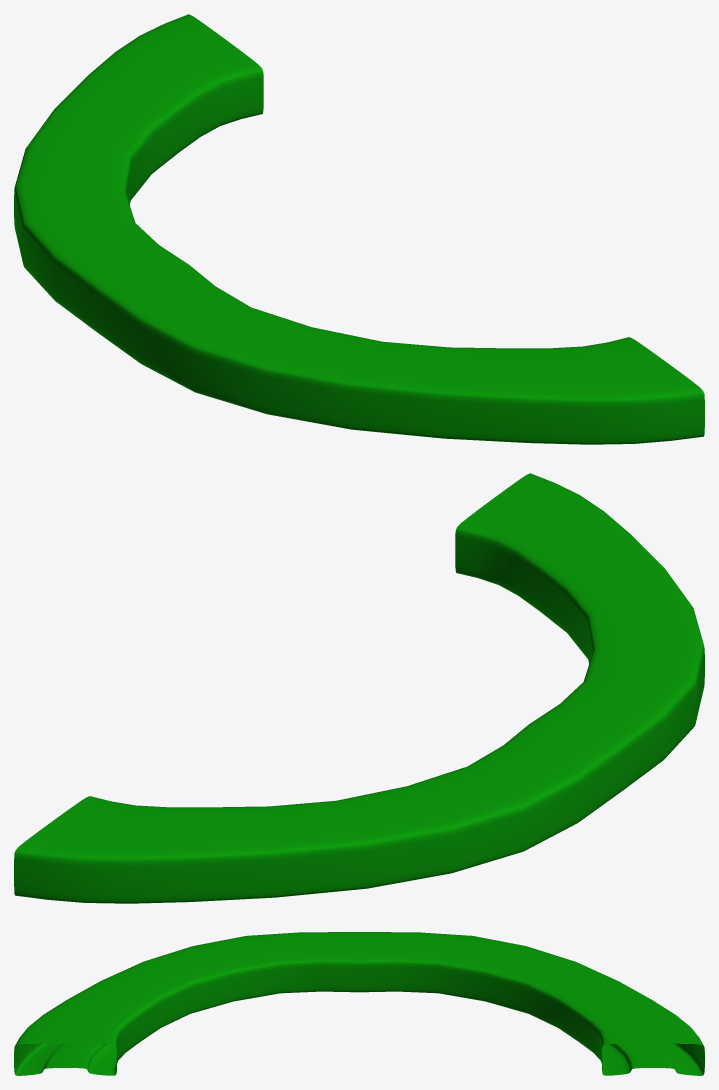
Rendered from TracksNotmoveRigModularBendLeft.fbx.
3 renders of one model, top to bottom at view 1: azimuth 30°, elevation 25°; view 2: azimuth 150°, elevation 25°; view 3: azimuth 270°, elevation 25°, orthographic. The views are drawn at different scales.
Visible parts, largest first — view 1: NotmoveRigModularBendLeft; view 2: NotmoveRigModularBendLeft; view 3: NotmoveRigModularBendLeft.
Part boxes in pixels (x1,y1,x2,y2): NotmoveRigModularBendLeft: (14,14,704,444); NotmoveRigModularBendLeft: (14,473,704,903); NotmoveRigModularBendLeft: (14,932,704,1075).
Bounding box in the file's own units: 37.55 × 4.96 × 96.39.
